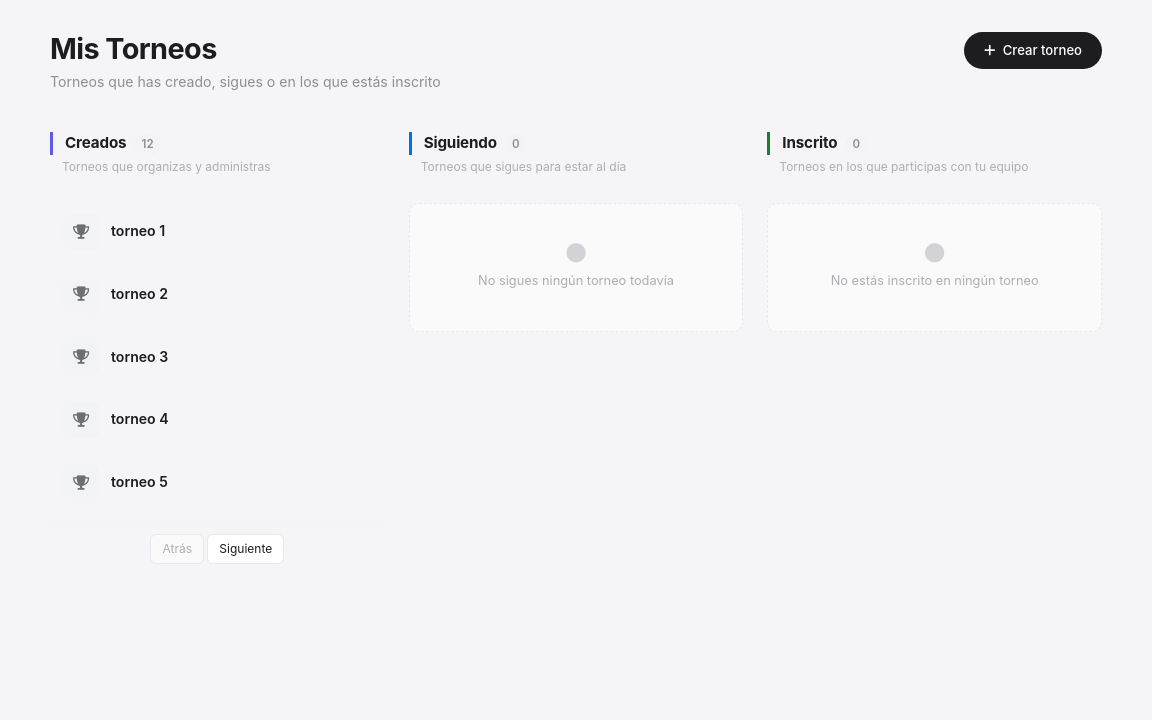
Test: MyTournaments › navega entre páginas con los botones Siguiente y Atrás
The width and height of the screenshot is (1152, 720).
Expected: the text "torneo 1" is shown, [111, 222, 165, 239]
Expected: the text "torneo 6" is not shown
Siguiente → torneos 6-10
Click the text "Siguiente" at (246, 548), box [219, 541, 272, 556]
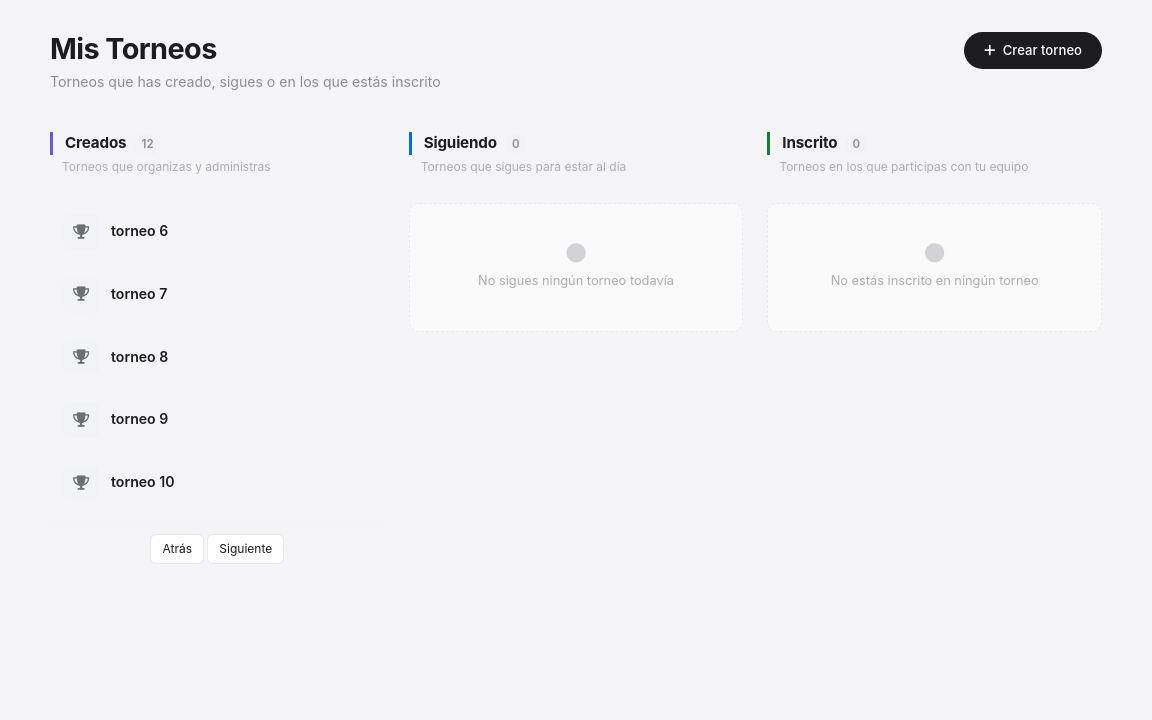
Expected: the text "torneo 11" is not shown
Expected: the text "torneo 6" is shown, [111, 222, 168, 239]
Expected: the text "torneo 10" is shown, [111, 473, 174, 490]
Siguiente → torneos 11-12
Click the text "Siguiente" at (246, 548), box [219, 541, 272, 556]
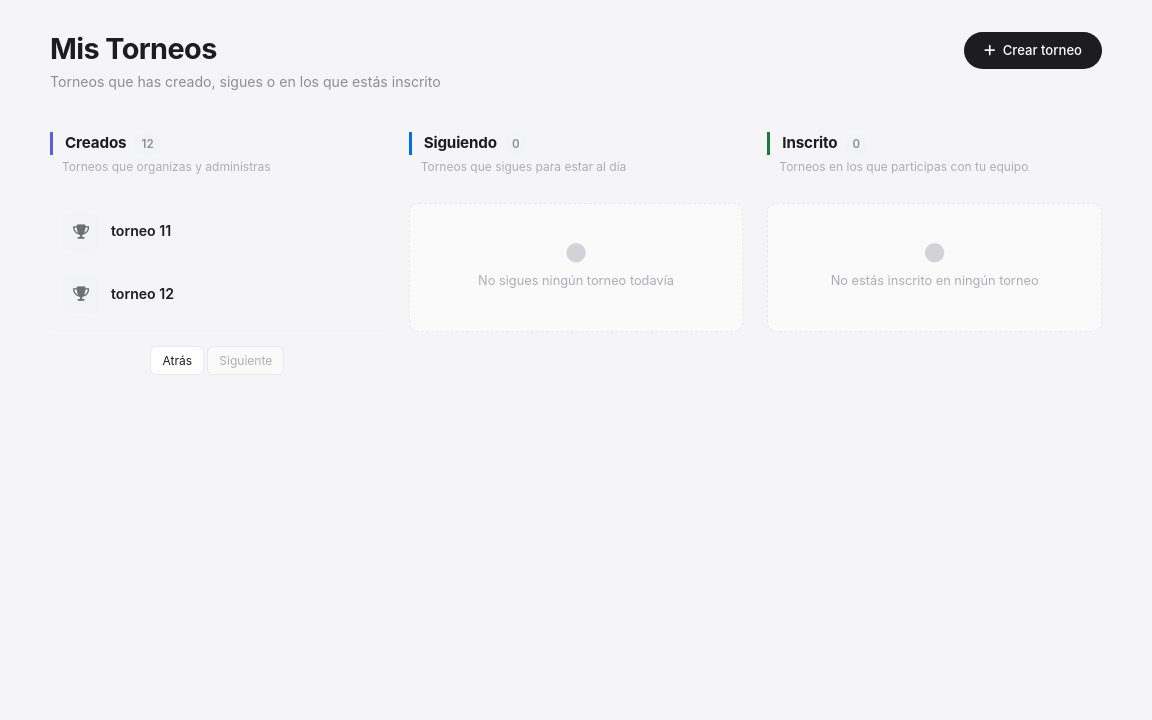
Expected: the text "torneo 11" is shown, [111, 222, 171, 239]
Expected: the text "torneo 12" is shown, [111, 285, 174, 302]
Atrás → torneos 6-10 de nuevo
Click the text "Atrás" at (177, 360), box [162, 353, 192, 368]
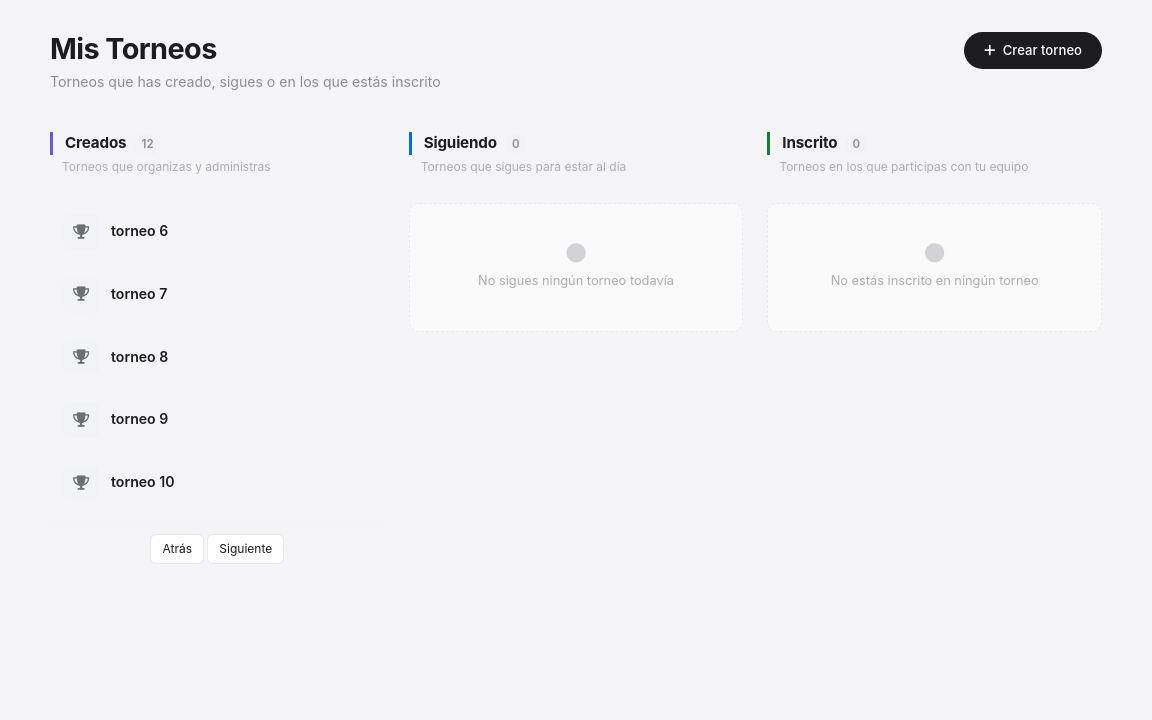
Expected: the text "torneo 6" is shown, [111, 222, 168, 239]
Expected: the link "torneo 12" is gone
